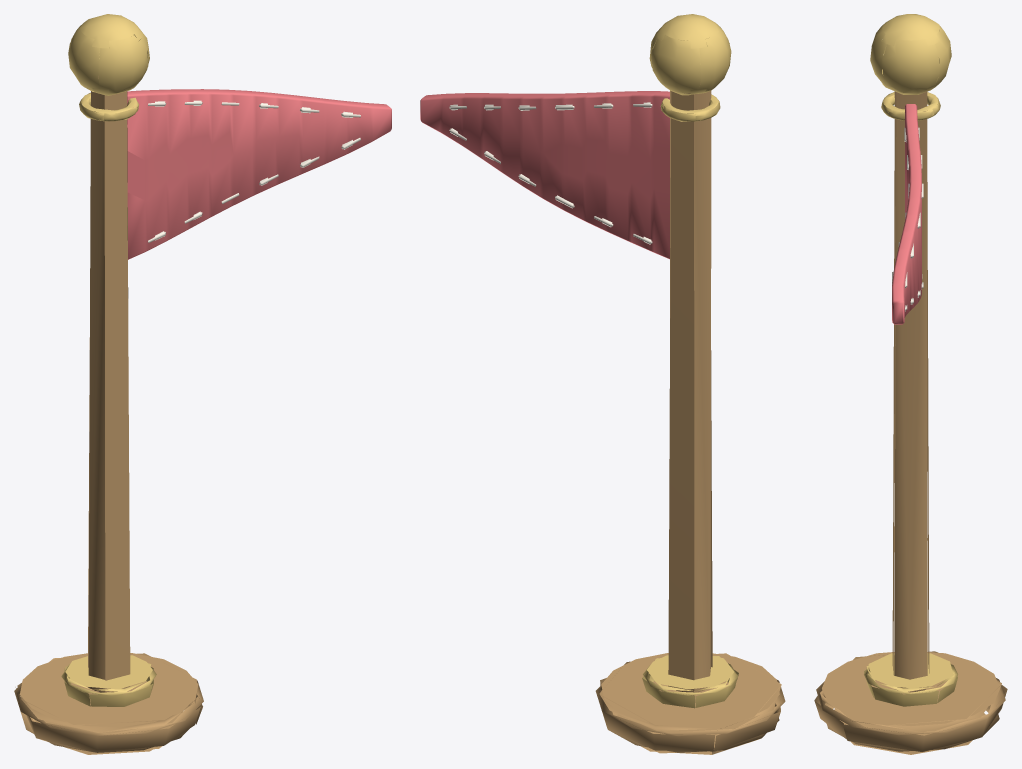
The model's file is checkpoint_flag_felt.glb.
3 views of the same model, side by side, from view 1: azimuth 30°, elevation 25°; view 2: azimuth 150°, elevation 25°; view 3: azimuth 270°, elevation 25° (orthographic).
Parts seen in each view (by area): view 1: FlagCloth, FlagPole, FlagBase, FlagFinial, FlagCollar, FlagPoleRing; view 2: FlagCloth, FlagPole, FlagBase, FlagFinial, FlagCollar, FlagPoleRing; view 3: FlagPole, FlagBase, FlagFinial, FlagCloth, FlagCollar, FlagPoleRing.
Boxes of the visible parts, bbox=[...] form: FlagCloth: bbox=[127, 89, 391, 259]; FlagPole: bbox=[88, 76, 130, 692]; FlagBase: bbox=[14, 653, 203, 754]; FlagFinial: bbox=[68, 14, 149, 95]; FlagCollar: bbox=[61, 655, 156, 706]; FlagPoleRing: bbox=[79, 92, 138, 121]; FlagCloth: bbox=[420, 91, 669, 259]; FlagPole: bbox=[668, 82, 712, 695]; FlagBase: bbox=[595, 653, 785, 754]; FlagFinial: bbox=[649, 14, 731, 95]; FlagCollar: bbox=[642, 655, 738, 708]; FlagPoleRing: bbox=[660, 94, 720, 121]; FlagPole: bbox=[892, 91, 929, 692]; FlagBase: bbox=[814, 651, 1007, 754]; FlagFinial: bbox=[870, 14, 951, 94]; FlagCloth: bbox=[892, 104, 921, 324]; FlagCollar: bbox=[864, 653, 957, 706]; FlagPoleRing: bbox=[881, 92, 940, 120].
Size of the model in its own units: 1.62 by 3.04 by 0.7573.
